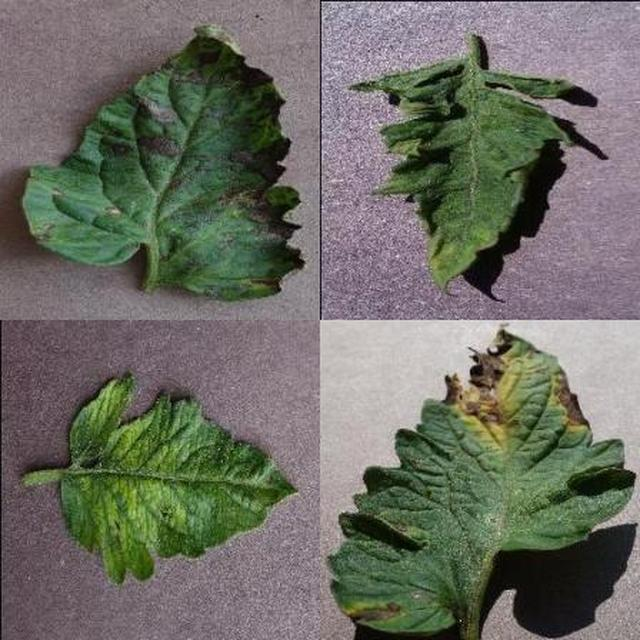Early Blight Leaf: (236, 233, 640, 640)
